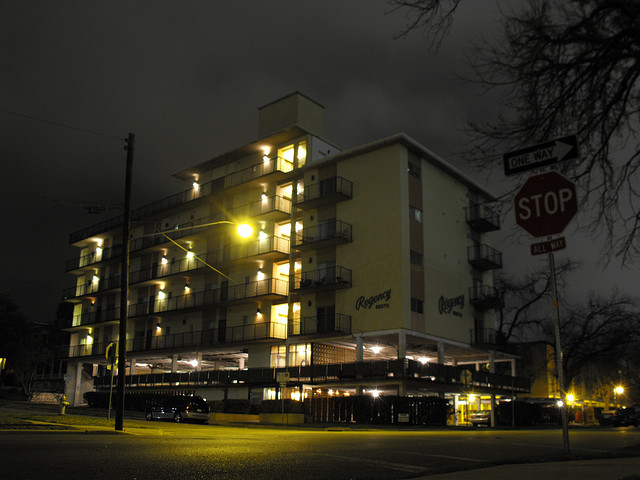car: (140, 393, 215, 426)
